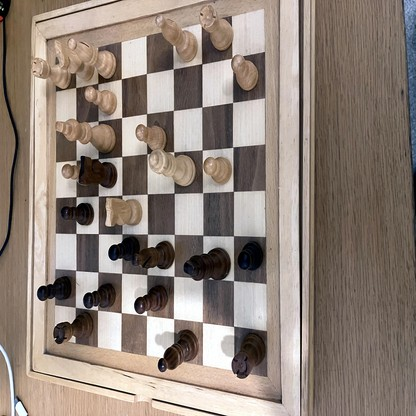bishop_black: (158, 331, 199, 370), (135, 241, 175, 269)
bishop_white: (69, 37, 117, 79), (157, 17, 197, 62)
king_black: (183, 249, 231, 281)
king_white: (56, 118, 116, 152)
knight_black: (80, 156, 117, 188)
knight_white: (54, 40, 94, 80), (105, 197, 142, 227)
pawn_black: (134, 284, 169, 313), (37, 276, 71, 300), (84, 284, 116, 307), (60, 204, 93, 226), (239, 241, 263, 270), (109, 237, 139, 259)
pawn_white: (233, 54, 258, 91), (84, 88, 118, 113), (136, 124, 166, 151), (204, 157, 231, 184)
queen_white: (149, 151, 195, 187)
rock_black: (232, 334, 265, 377), (53, 312, 93, 344)
rock_white: (199, 4, 234, 50), (32, 59, 70, 89)
